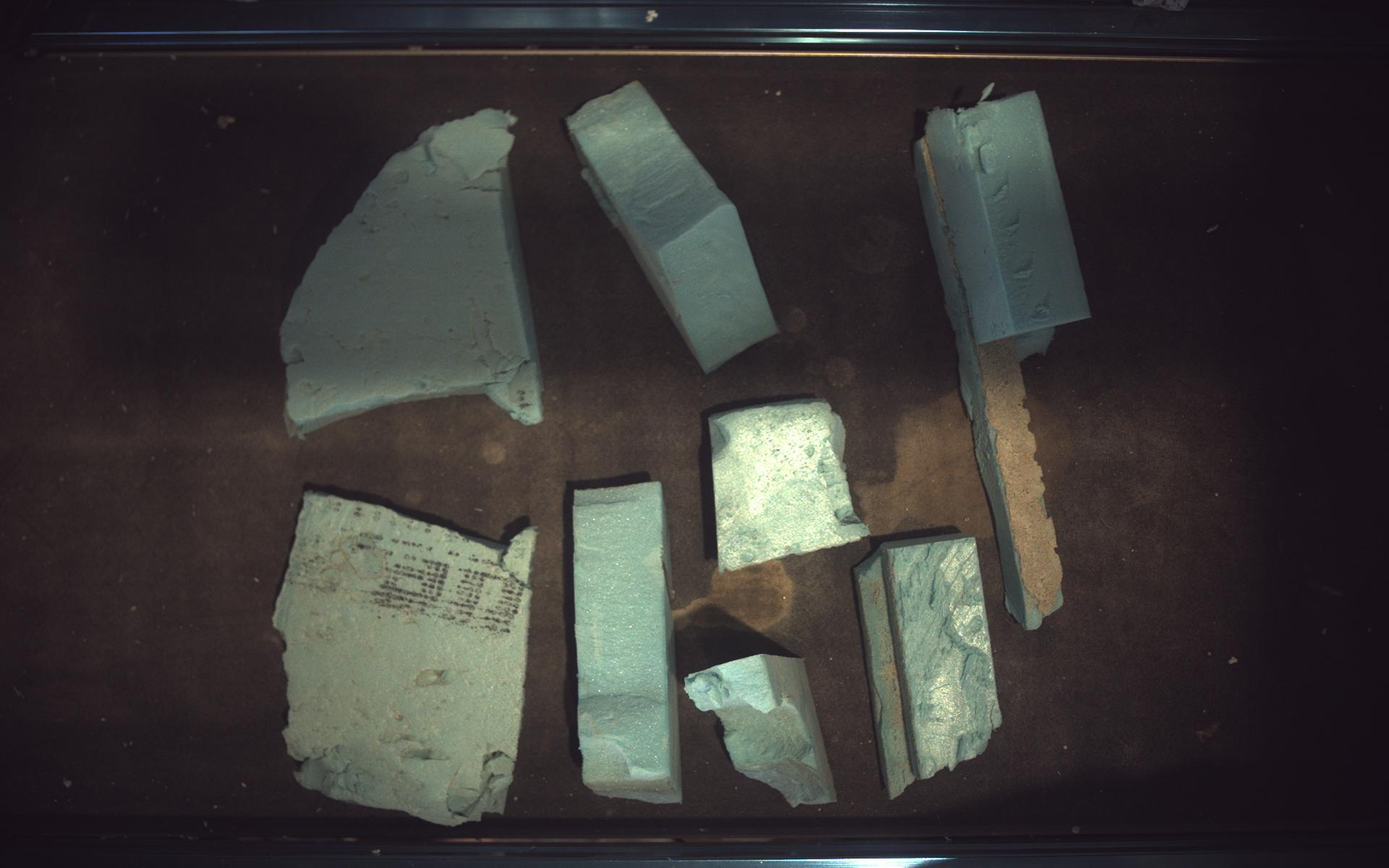foam: (917, 90, 1092, 629), (273, 492, 536, 827), (280, 108, 542, 437), (567, 80, 779, 373), (856, 535, 1003, 800), (573, 482, 682, 804), (710, 400, 871, 571), (686, 655, 838, 809)
